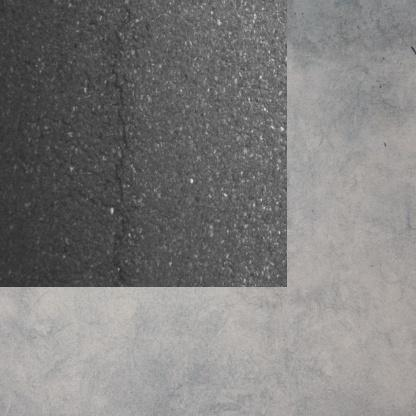Cracks: (90, 48, 121, 262)
